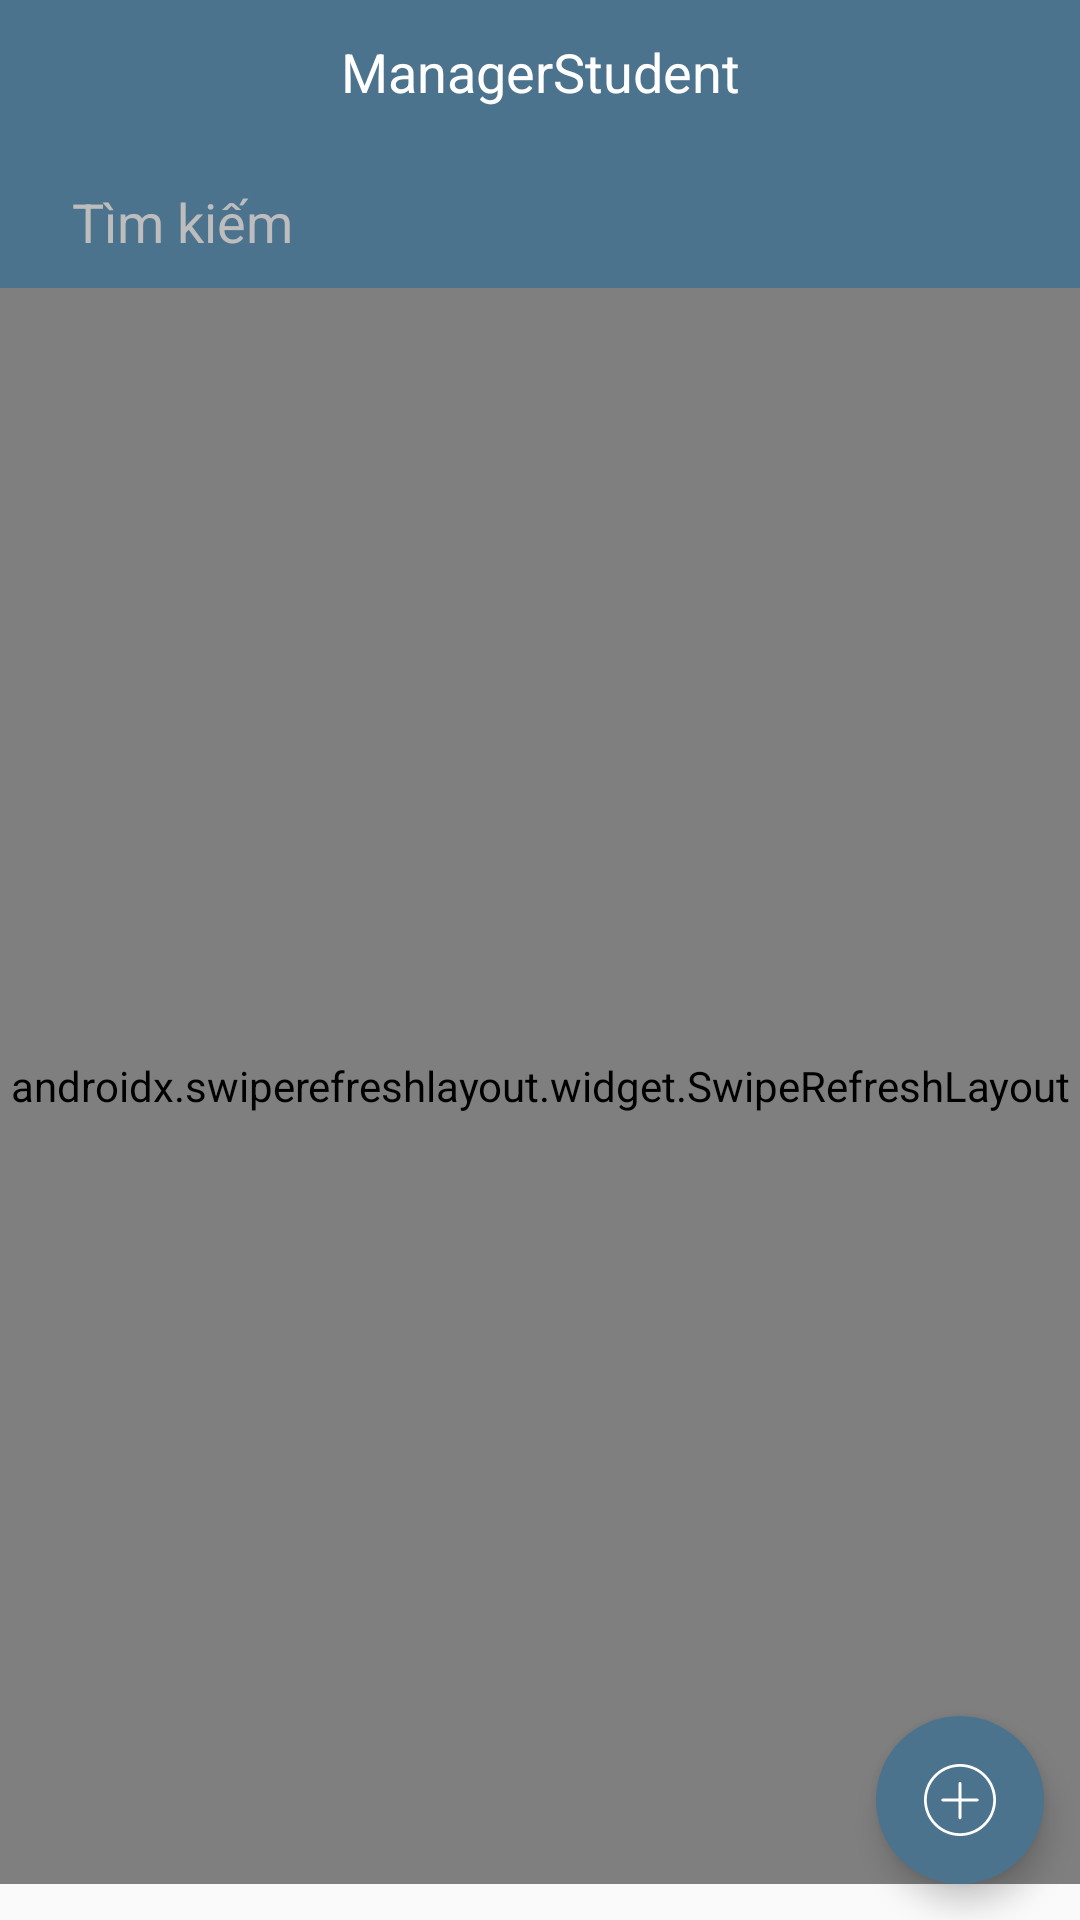

Locate icon controls on the screen. Image size 1080x1920, boxes as bbox=(x1, y1, x2, y2).
add: bbox=(876, 1716, 1044, 1884)
